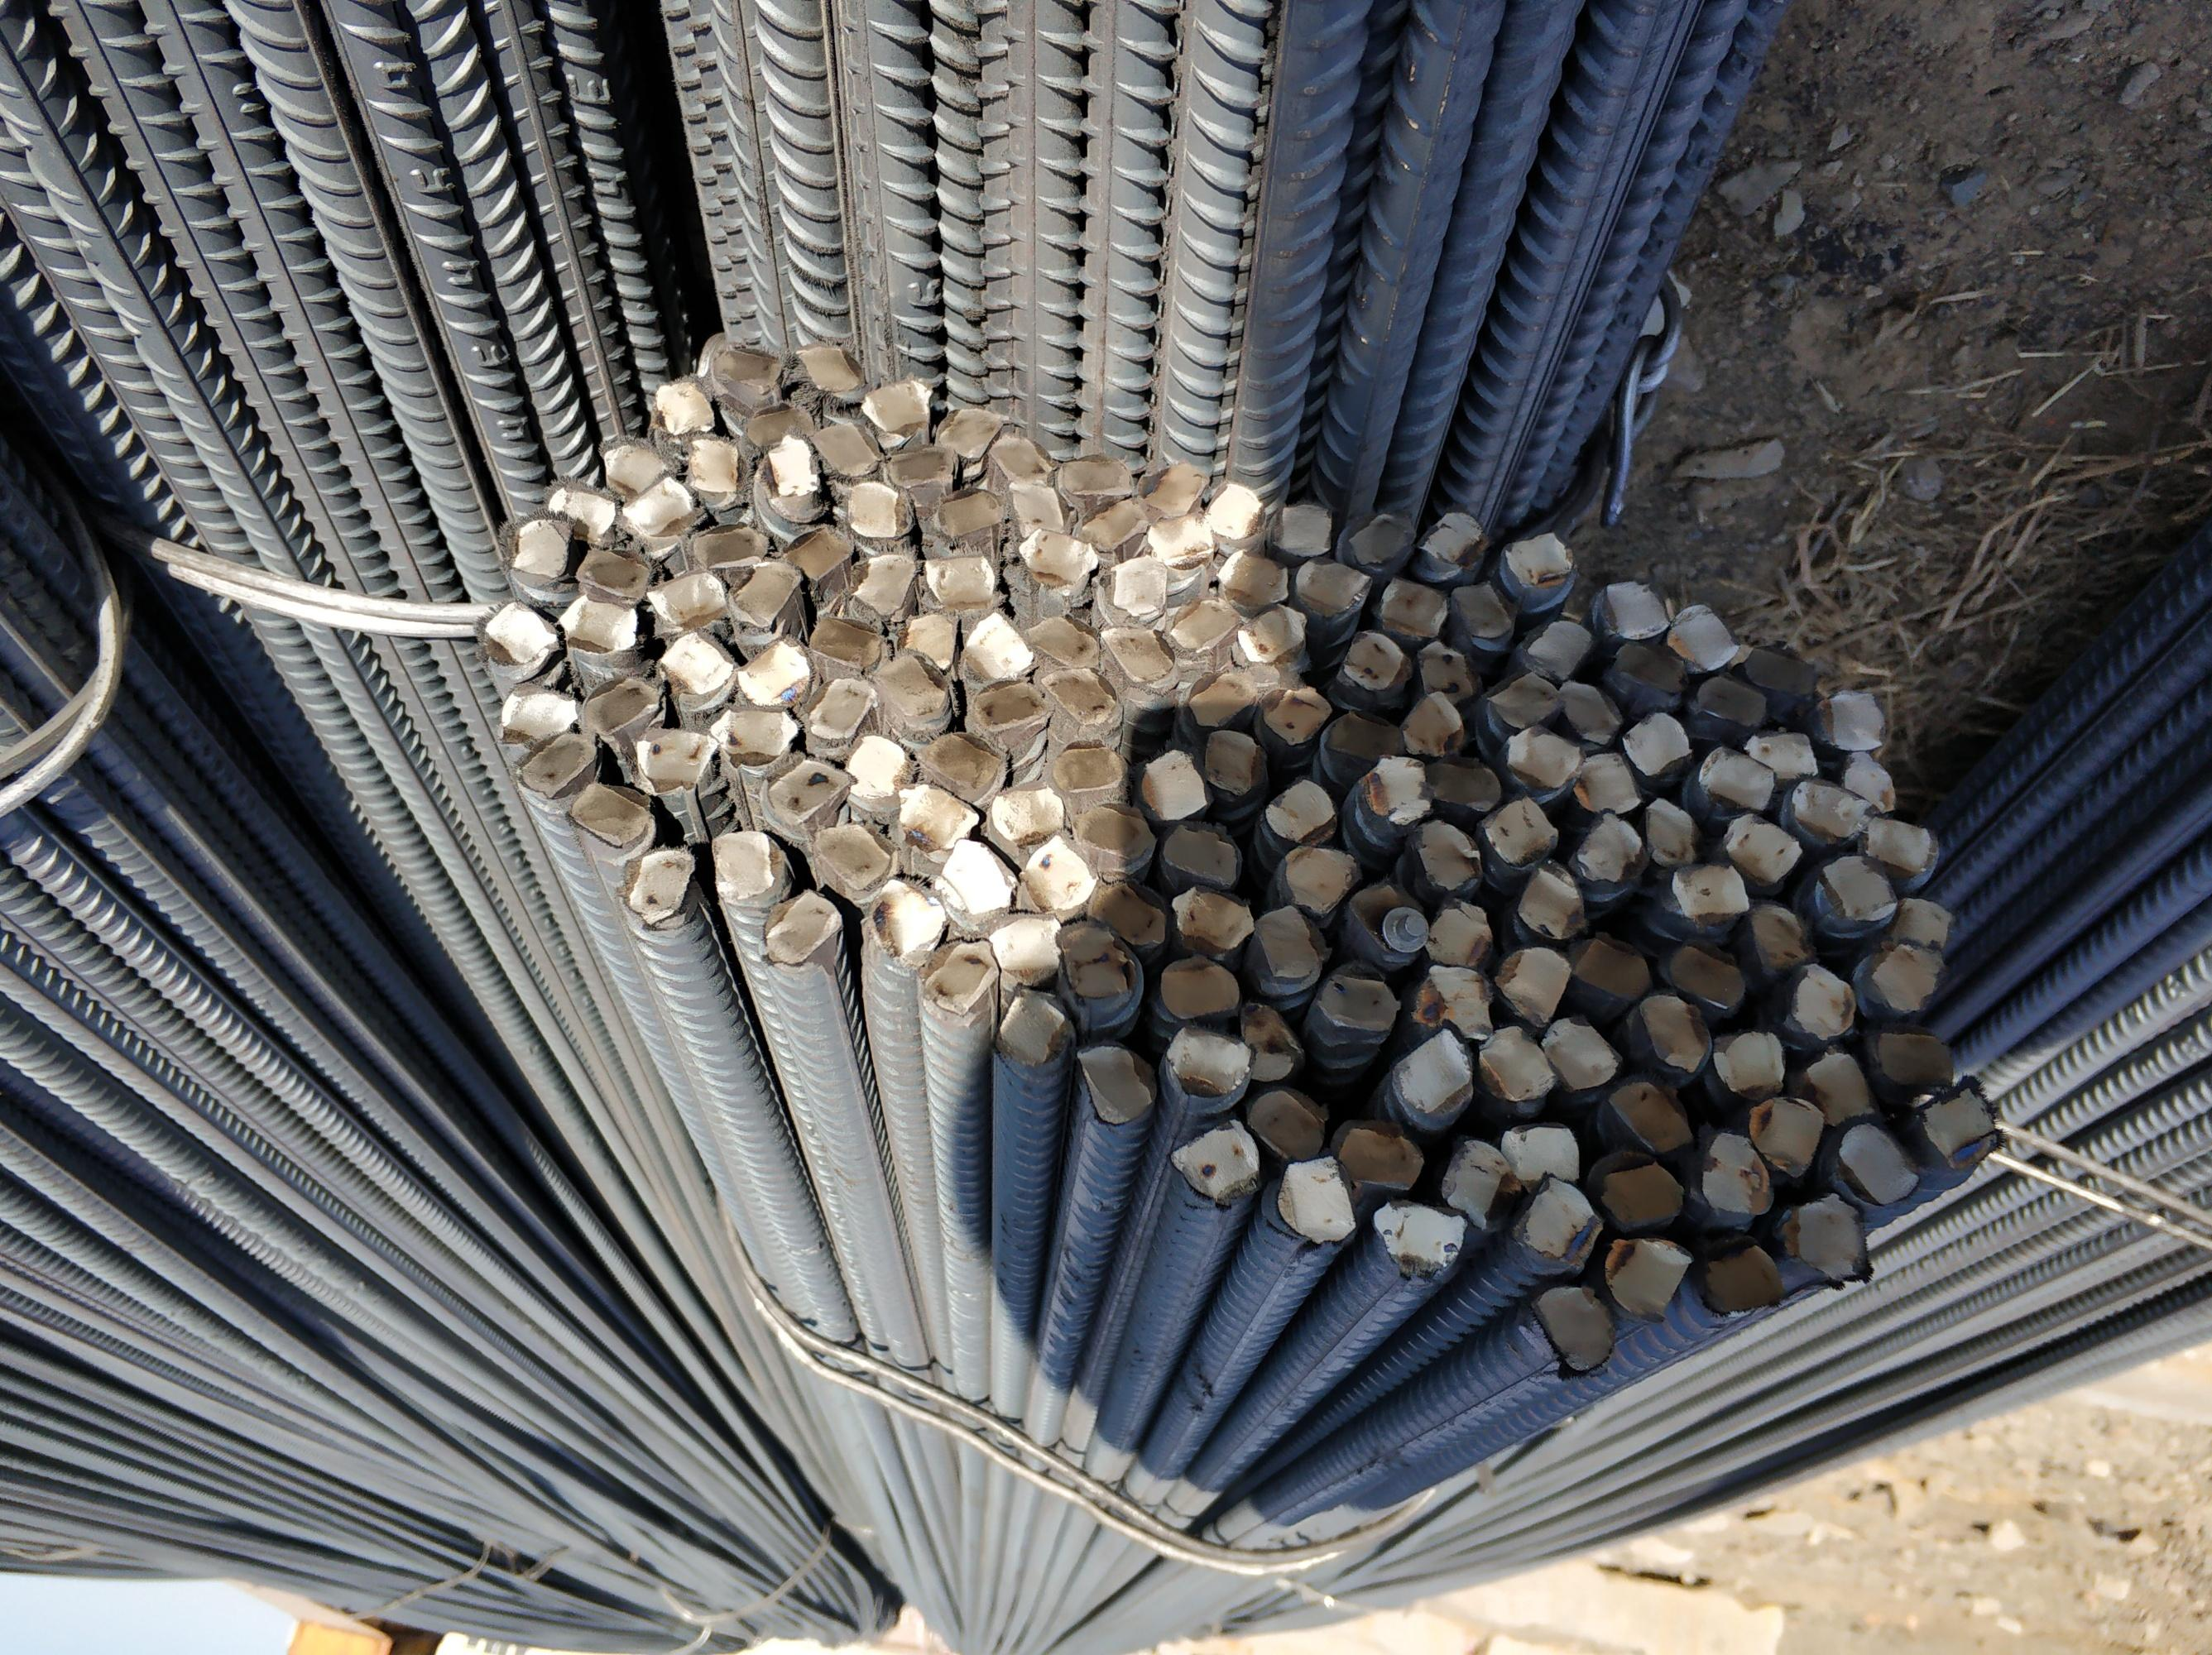bar: (1533, 1285, 1623, 1375), (1602, 1233, 1692, 1323), (1168, 1114, 1262, 1201), (1913, 1080, 2003, 1168), (1517, 1172, 1604, 1264), (1791, 1189, 1873, 1285), (1392, 1024, 1470, 1123), (1275, 1151, 1359, 1243), (1439, 1137, 1517, 1231), (1701, 1227, 1785, 1314), (864, 876, 945, 965), (1835, 1120, 1918, 1205), (1746, 1092, 1828, 1179), (1074, 1040, 1154, 1127), (1593, 1151, 1684, 1227), (1698, 1130, 1776, 1217), (1491, 942, 1567, 1031), (1373, 1194, 1463, 1269), (1414, 961, 1496, 1043), (933, 833, 1013, 916), (1538, 1012, 1623, 1090), (620, 841, 697, 927), (1166, 1022, 1251, 1099), (759, 887, 841, 965), (1348, 878, 1427, 960), (1635, 991, 1712, 1074), (1020, 829, 1095, 914), (474, 596, 561, 669), (1607, 1081, 1694, 1154), (1816, 850, 1896, 928), (1281, 841, 1362, 918), (566, 775, 652, 848), (1334, 1121, 1425, 1189), (917, 934, 996, 1012), (1515, 861, 1592, 940), (989, 906, 1063, 987), (497, 678, 580, 751), (997, 986, 1070, 1069), (504, 511, 580, 589), (1480, 1024, 1557, 1102), (1875, 1027, 1965, 1093), (1157, 947, 1239, 1020), (632, 721, 716, 793), (556, 588, 639, 659), (1244, 1087, 1328, 1158), (893, 775, 978, 845), (1500, 1114, 1585, 1184), (1169, 880, 1255, 949), (1234, 996, 1300, 1085), (707, 824, 784, 901), (1805, 1048, 1882, 1125), (619, 469, 697, 544), (808, 819, 888, 892), (1480, 794, 1560, 867), (1362, 748, 1435, 827), (1062, 920, 1133, 1001), (733, 629, 810, 704), (1791, 777, 1880, 841), (1140, 746, 1211, 826), (1317, 965, 1399, 1034), (765, 754, 848, 822), (1666, 942, 1752, 1008), (514, 732, 601, 796), (1089, 878, 1168, 949), (1722, 810, 1800, 881), (1253, 904, 1324, 982), (709, 704, 798, 767), (1571, 934, 1652, 1001), (916, 727, 999, 793), (1018, 523, 1103, 588), (961, 607, 1034, 681), (1871, 944, 1946, 1017), (1743, 897, 1816, 972), (1668, 598, 1741, 673), (1423, 895, 1496, 970), (1411, 819, 1486, 892), (580, 675, 667, 737), (1503, 723, 1581, 793), (1791, 960, 1858, 1041), (1710, 1026, 1788, 1093), (1573, 810, 1644, 883), (655, 631, 730, 701), (1619, 708, 1694, 777), (1187, 662, 1262, 732), (709, 342, 785, 410), (1262, 775, 1338, 843), (1295, 553, 1373, 619), (1041, 661, 1121, 725), (1861, 814, 1941, 878), (726, 556, 801, 624), (1164, 821, 1241, 887), (989, 781, 1067, 845), (572, 541, 652, 603), (1423, 751, 1503, 814), (1701, 744, 1774, 812), (1096, 621, 1175, 683), (1821, 685, 1891, 754), (1555, 675, 1621, 748), (1262, 681, 1334, 748), (1595, 575, 1670, 640), (1376, 574, 1451, 638), (1670, 859, 1748, 920), (876, 652, 945, 720), (1239, 600, 1308, 668), (1526, 615, 1597, 681), (1487, 666, 1560, 730), (544, 480, 620, 541), (806, 675, 876, 741), (1399, 688, 1465, 758), (645, 568, 725, 626), (1324, 708, 1404, 765), (844, 475, 916, 539), (681, 429, 744, 502), (1611, 638, 1684, 701), (1498, 527, 1573, 588), (1133, 459, 1208, 520), (857, 376, 935, 433), (1574, 748, 1644, 812), (1449, 575, 1513, 645), (1199, 727, 1263, 796), (1072, 801, 1149, 859), (1107, 549, 1169, 619), (792, 339, 864, 400), (1027, 610, 1103, 666), (1340, 629, 1406, 694), (1171, 595, 1241, 655), (973, 675, 1046, 732), (1076, 494, 1149, 551), (1743, 641, 1816, 699), (1745, 727, 1819, 782), (1202, 475, 1267, 539), (599, 431, 667, 492), (805, 421, 881, 475), (648, 379, 719, 436), (782, 523, 853, 581), (938, 400, 1003, 462), (850, 551, 914, 614), (1423, 511, 1489, 572), (846, 732, 905, 800), (808, 614, 879, 669), (1640, 793, 1696, 864), (1142, 506, 1215, 560), (1051, 739, 1123, 793), (1270, 501, 1334, 560), (900, 605, 957, 671), (1842, 749, 1899, 815), (1348, 511, 1418, 565), (924, 551, 996, 603), (1414, 640, 1475, 701), (1058, 454, 1136, 501), (1696, 673, 1764, 727), (884, 440, 959, 489), (1006, 478, 1065, 539), (1892, 895, 1955, 953), (766, 433, 820, 499), (692, 522, 766, 567), (985, 433, 1053, 482), (937, 487, 1004, 535), (742, 405, 818, 447)
